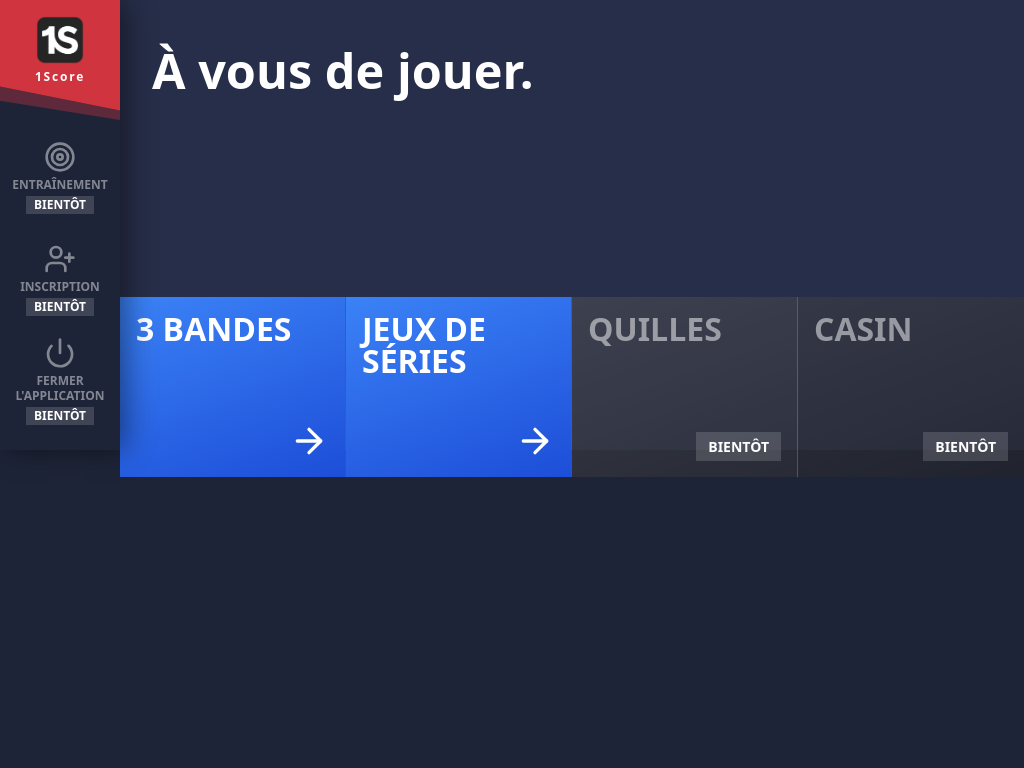
Test: HomeScreen › titles the screen with the mode, and shows the two setting CTAs
The image size is (1024, 768).
Press the mouse on the button with test id "category-series": (459, 387) [346,297,572,477]
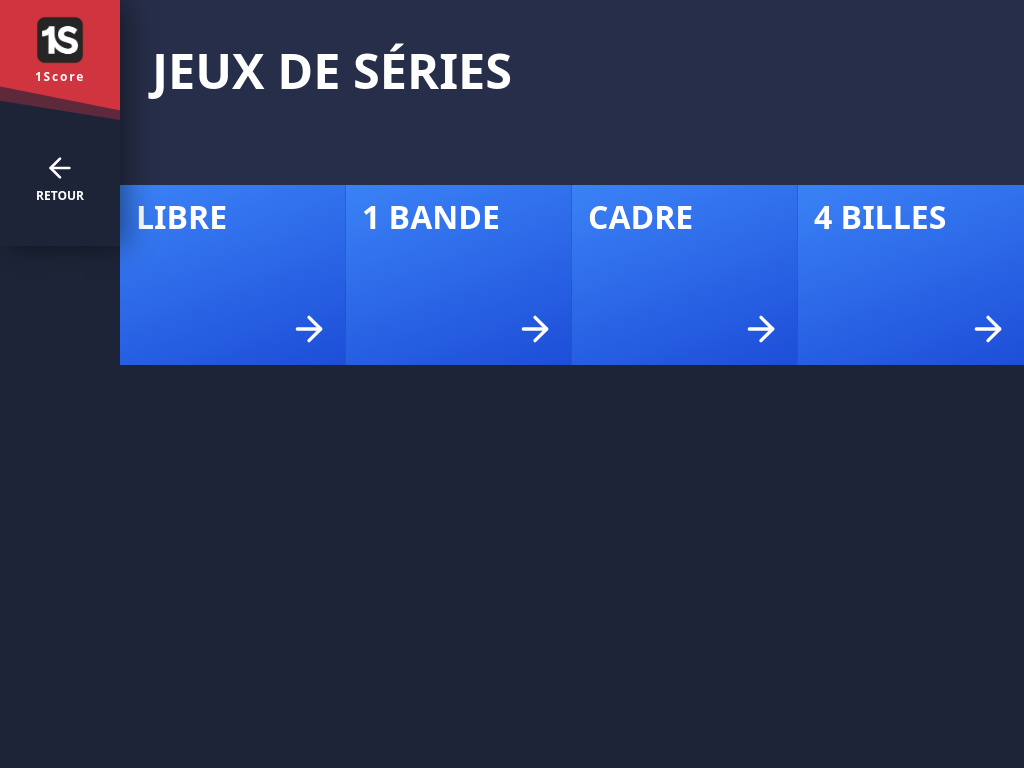
Press the mouse on the button with test id "mode-cadre": (685, 275) [572,185,798,365]
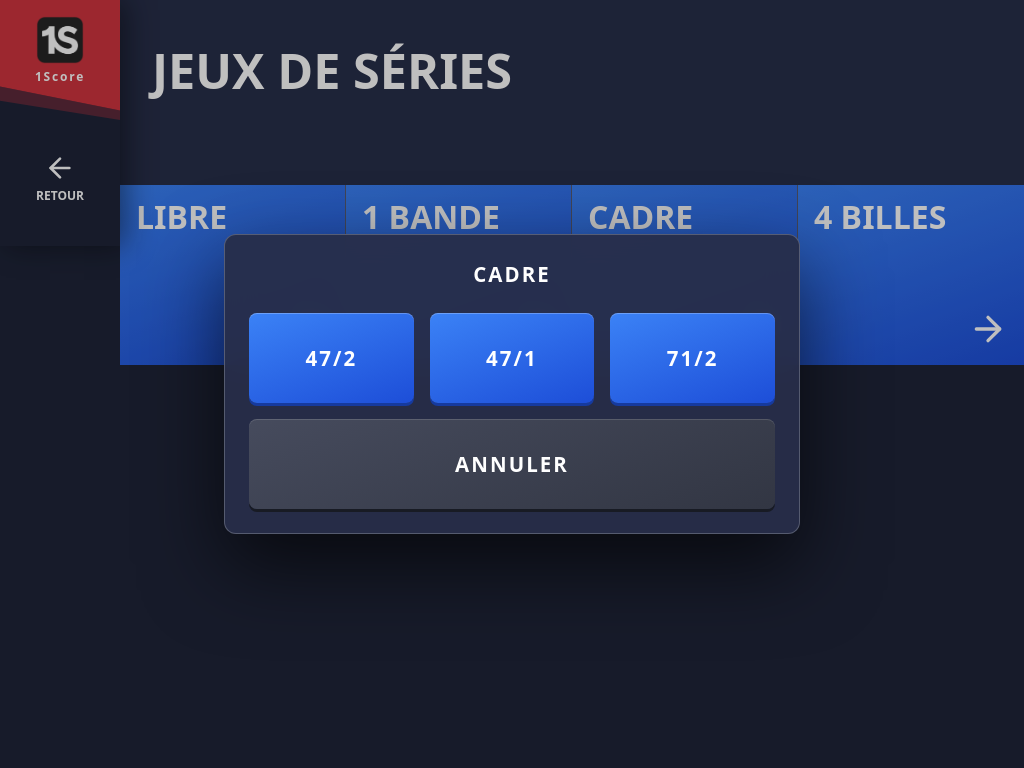
Press the mouse on the button "47/2": (331, 358) [249,313,414,403]
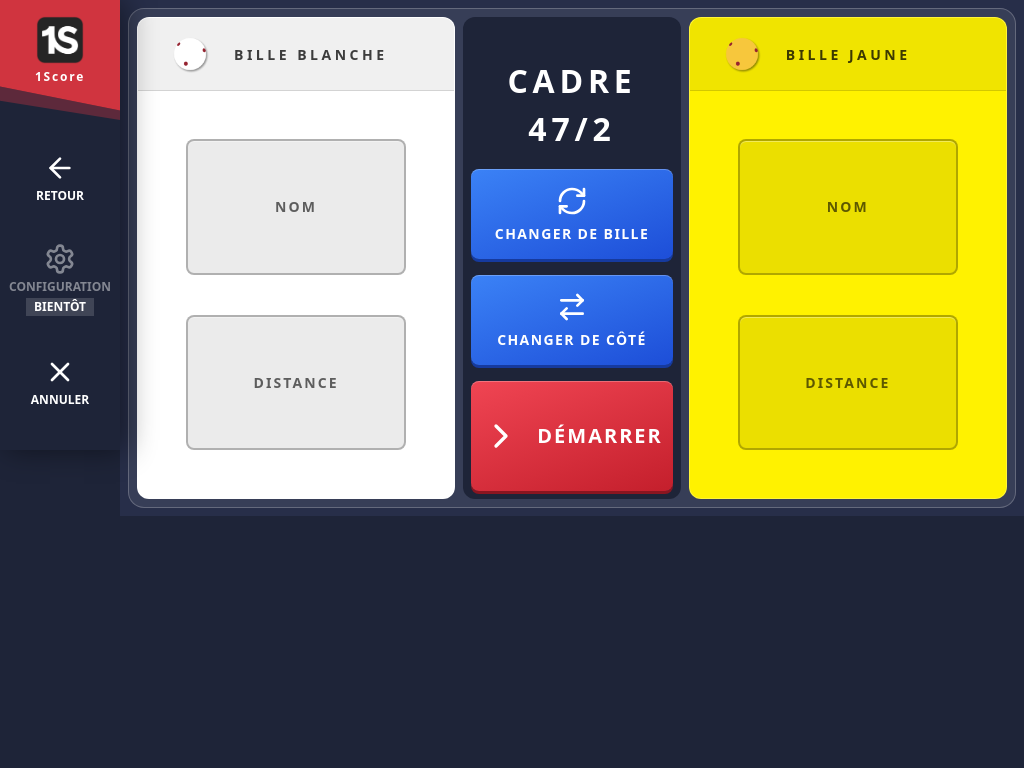
Expected: the heading with test id "setup-mode-label" reads "CADRE 47/2", [507,59,637,150]
Expected: the button with test id "change-ball-button" reads "CHANGER DE BILLE", [471,169,673,259]
Expected: the button with test id "change-side-button" reads "CHANGER DE CÔTÉ", [471,275,673,365]
